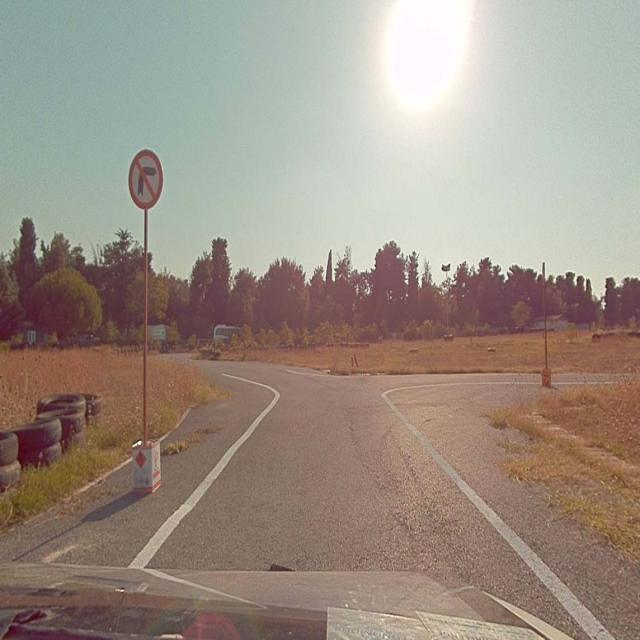sagadonulmez: (129, 150, 163, 208)
